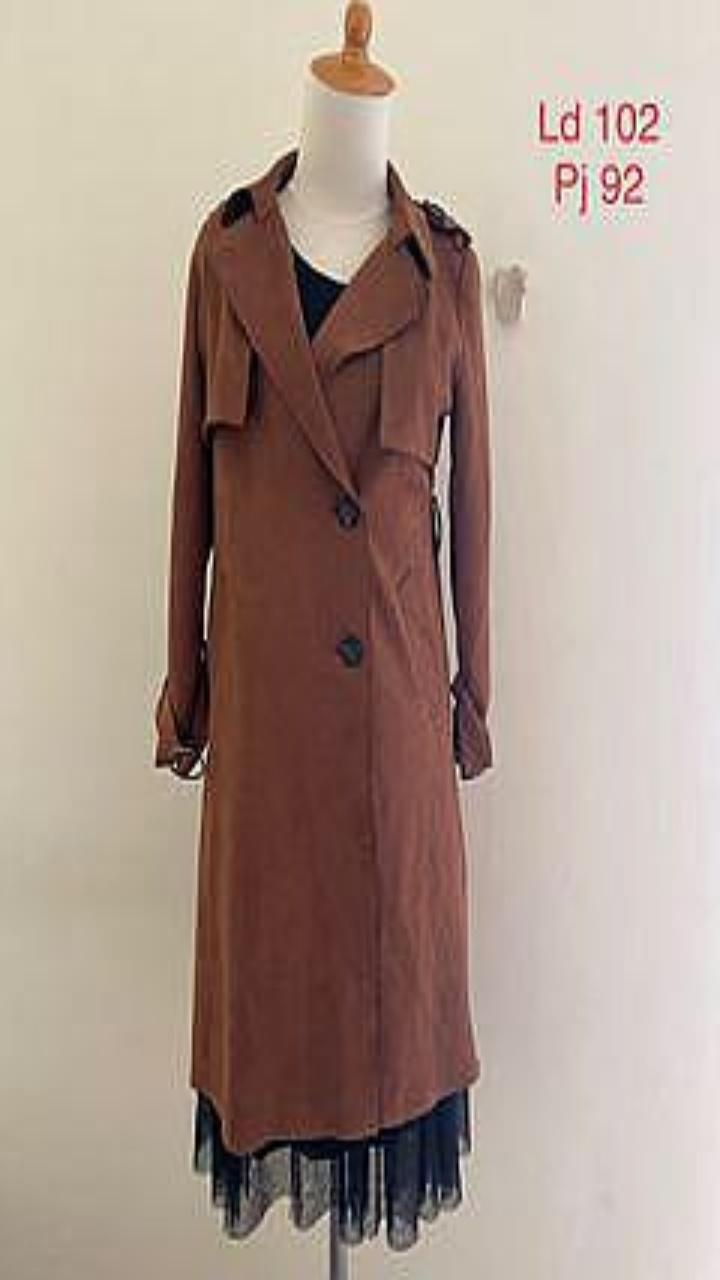Coat: (155, 149, 492, 1151)
Dresses: (193, 1088, 470, 1249)
